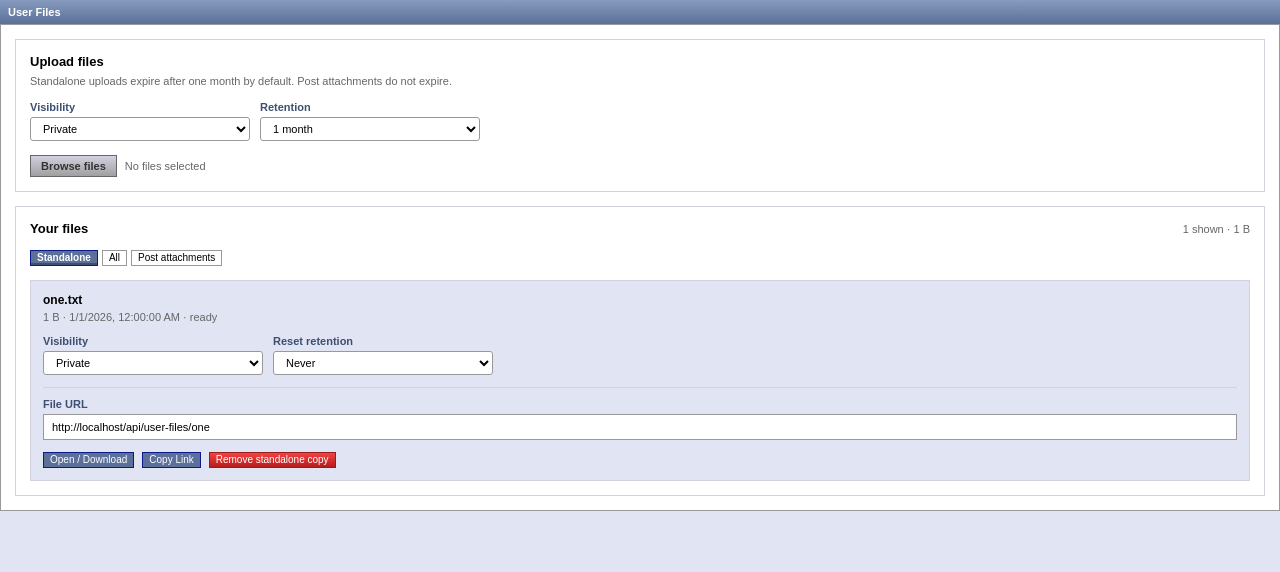
Test: UserFilesView async identity boundaries › prevents duplicate settings updates for one file and disables filters until it settles
Select "Public" in the dropdown labelled "Visibility" below "Reset retention" at (153, 363), box [43,351,263,375]
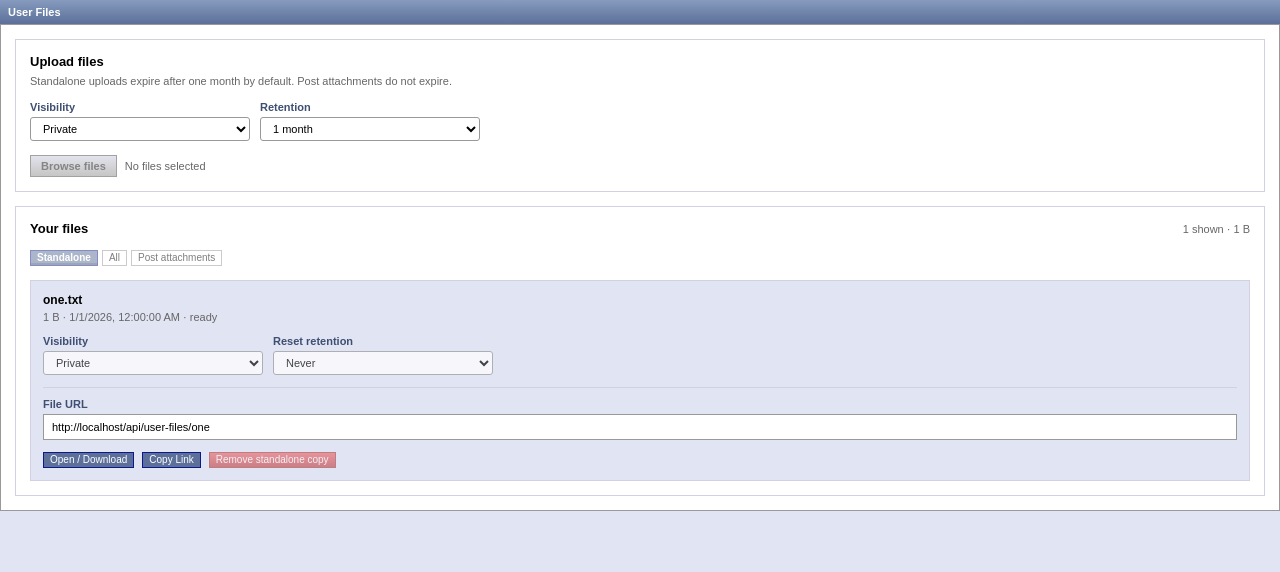
Select "Private" in the dropdown labelled "Visibility" below "Reset retention" at (153, 363), box [43,351,263,375]
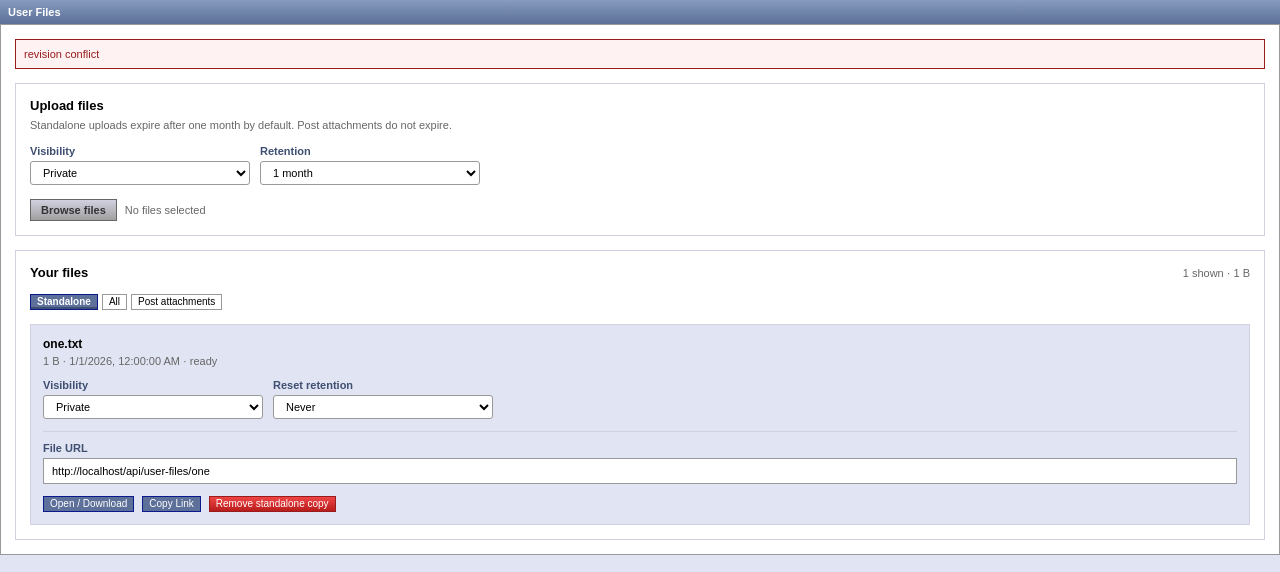
Now the text "revision conflict" is shown, box [15,39,1265,69]
